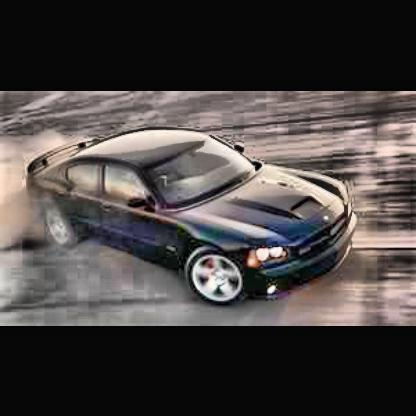Dodge Charger SRT-8 2009: (27, 129, 359, 309)
